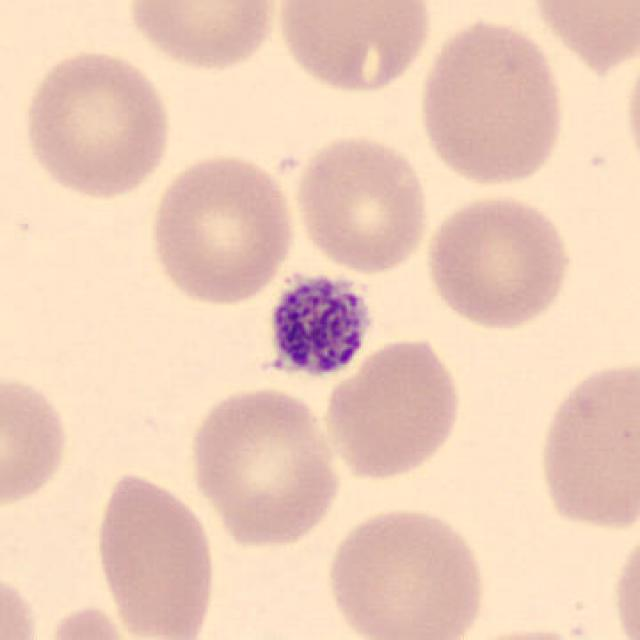Platelets: (254, 266, 377, 386)
RBC: (412, 14, 570, 191), (183, 381, 347, 550), (18, 44, 176, 203), (144, 148, 300, 309), (320, 502, 491, 640), (90, 465, 220, 640), (318, 332, 466, 483), (421, 189, 576, 333), (290, 129, 434, 277), (531, 352, 640, 534), (270, 0, 438, 97), (122, 0, 282, 74), (0, 367, 73, 513), (524, 0, 638, 76), (39, 601, 146, 640), (608, 520, 640, 640), (0, 567, 44, 640), (620, 40, 640, 182), (441, 624, 604, 640)
